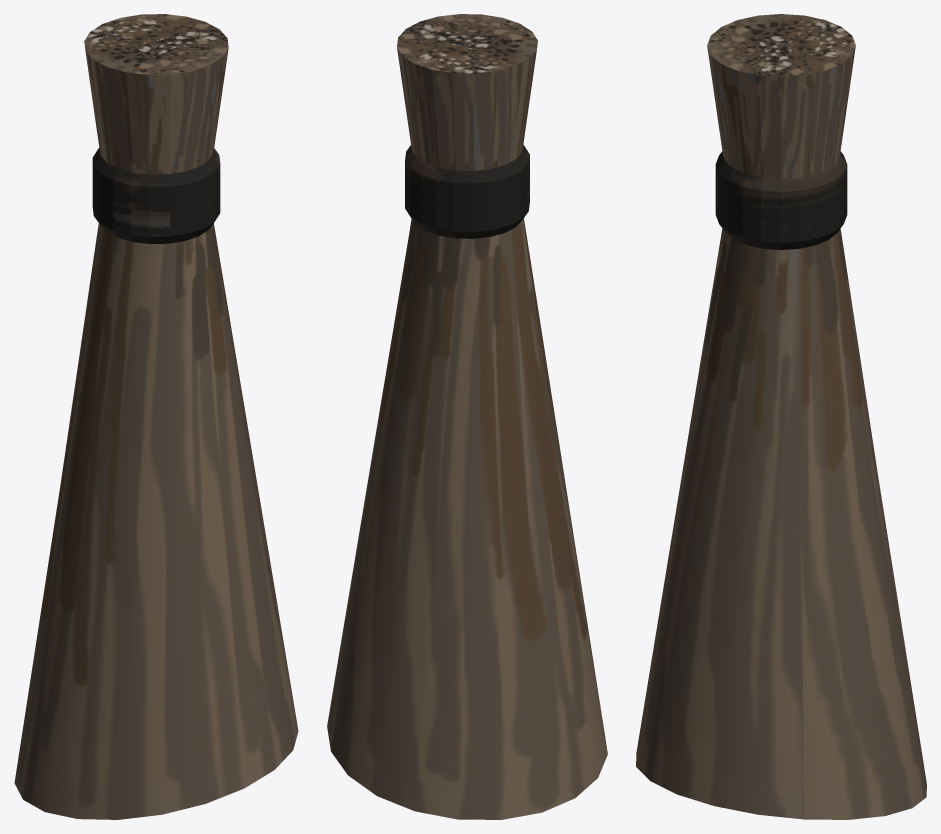
The model's file is sigid ni dimagiba.fbx.
3 views of the same model, side by side, from view 1: azimuth 30°, elevation 25°; view 2: azimuth 150°, elevation 25°; view 3: azimuth 270°, elevation 25° (orthographic). The views are drawn at different scales.
Visible parts, largest first — view 1: pCylinder1; view 2: pCylinder1; view 3: pCylinder1.
Boxes of the visible parts, x1,y1,x2,y2 form: pCylinder1: (14,14,298,819); pCylinder1: (327,14,607,819); pCylinder1: (636,14,926,819).
Bounding box in the file's own units: 0.00955 × 0.0274 × 0.00958.
1 material, 1 textured.
